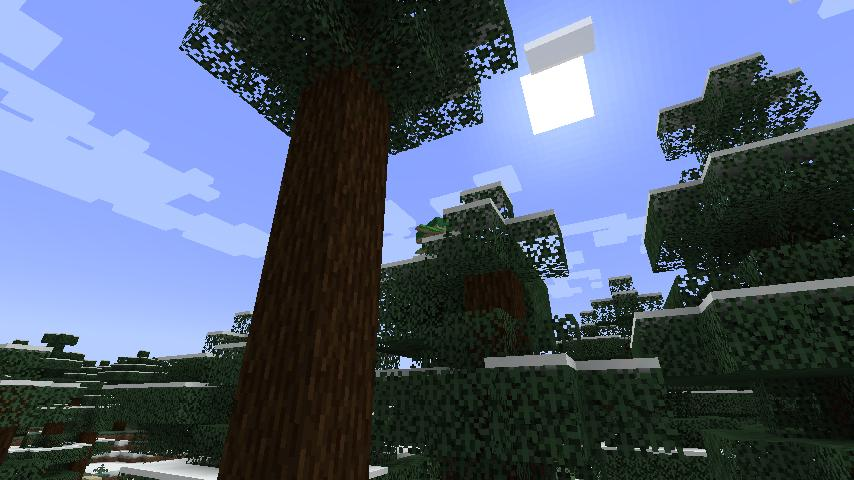turtle: (410, 214, 449, 245)
